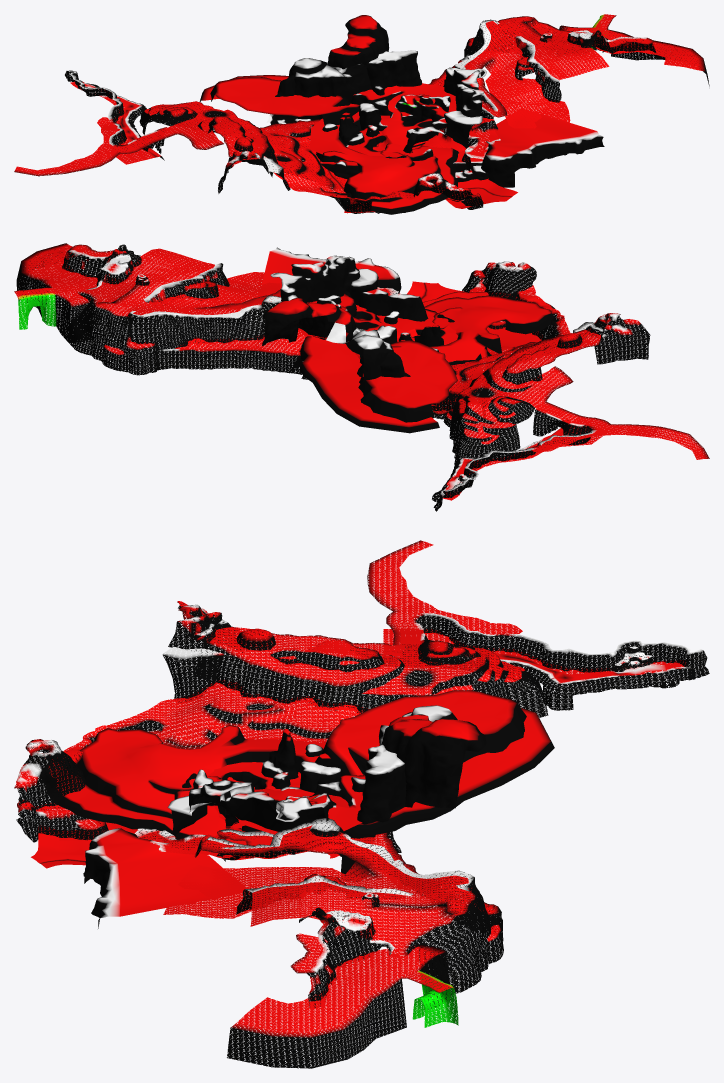
The model's file is desert.fbx.
3 views of the same model, one above another, from view 1: azimuth 30°, elevation 25°; view 2: azimuth 150°, elevation 25°; view 3: azimuth 270°, elevation 25° (orthographic). The views are drawn at different scales.
Visible parts, largest first — view 1: um_ground_un_c01_cliff01_model_ground_un_c01_cliff01_modelSh, um_ground_un_c01_cliff02_model_ground_un_c01_cliff02_modelSh, um_ground_un_c01_cliff03_model_ground_un_c01_cliff03_modelSh; view 2: um_ground_un_c01_cliff01_model_ground_un_c01_cliff01_modelSh, um_ground_un_c01_cliff03_model_ground_un_c01_cliff03_modelSh, um_ground_un_c01_cliff02_model_ground_un_c01_cliff02_modelSh; view 3: um_ground_un_c01_cliff01_model_ground_un_c01_cliff01_modelSh, um_ground_un_c01_cliff02_model_ground_un_c01_cliff02_modelSh, um_ground_un_c01_cliff03_model_ground_un_c01_cliff03_modelSh.
Part boxes in pixels (x1,y1,x2,y2): um_ground_un_c01_cliff01_model_ground_un_c01_cliff01_modelSh: [14, 14, 709, 213]; um_ground_un_c01_cliff02_model_ground_un_c01_cliff02_modelSh: [246, 15, 604, 187]; um_ground_un_c01_cliff03_model_ground_un_c01_cliff03_modelSh: [199, 75, 469, 214]; um_ground_un_c01_cliff01_model_ground_un_c01_cliff01_modelSh: [14, 243, 709, 511]; um_ground_un_c01_cliff03_model_ground_un_c01_cliff03_modelSh: [292, 291, 555, 433]; um_ground_un_c01_cliff02_model_ground_un_c01_cliff02_modelSh: [260, 247, 494, 418]; um_ground_un_c01_cliff01_model_ground_un_c01_cliff01_modelSh: [14, 540, 709, 1068]; um_ground_un_c01_cliff02_model_ground_un_c01_cliff02_modelSh: [83, 705, 486, 928]; um_ground_un_c01_cliff03_model_ground_un_c01_cliff03_modelSh: [41, 690, 554, 881].
Size of the model in its own units: 132818 by 17416 by 80046.
